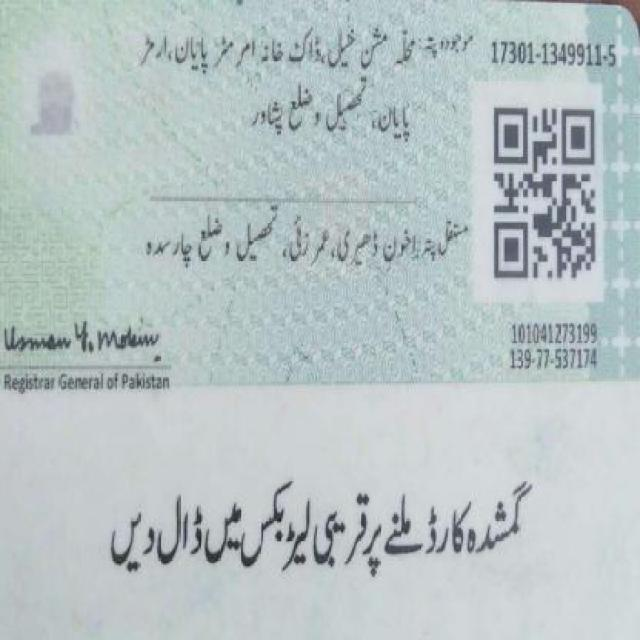Back: (3, 6, 629, 625)
